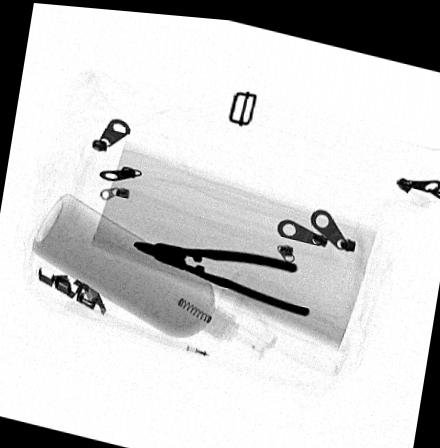Pliers: (131, 237, 309, 311)
